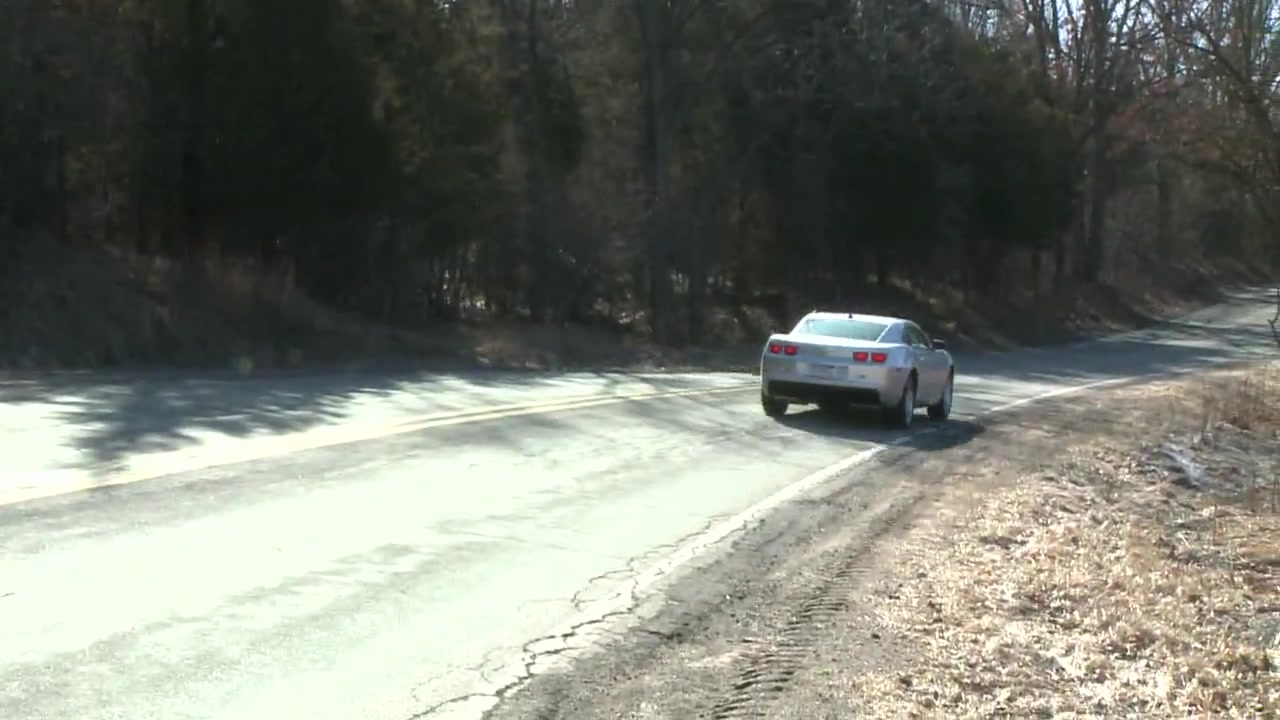car: (757, 307, 960, 424)
